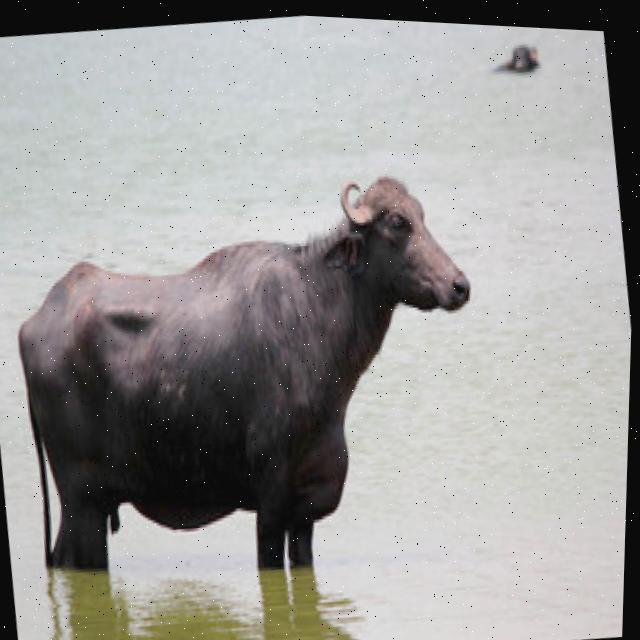Buffalo: (0, 138, 509, 619)
